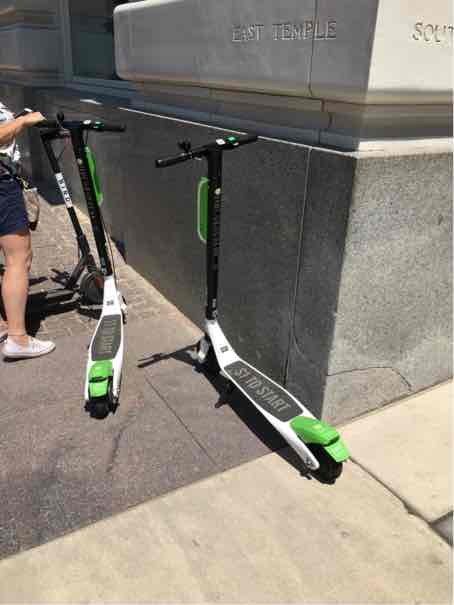scooter: (151, 129, 360, 477), (8, 105, 147, 411)
